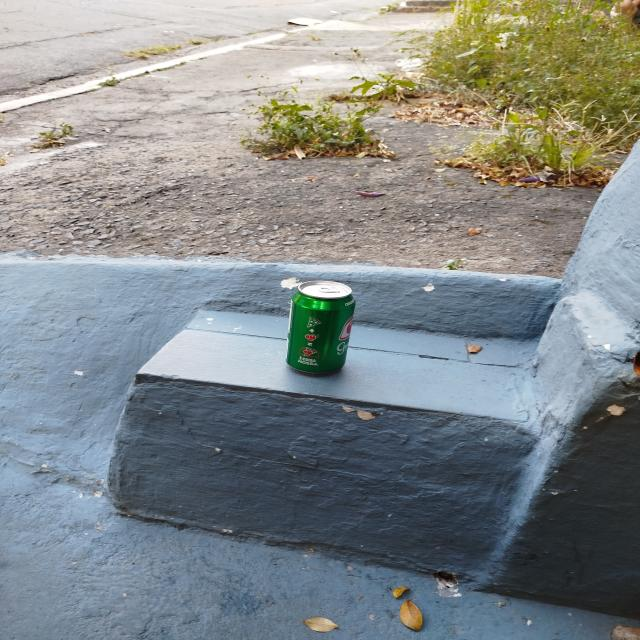Guarana: (286, 281, 358, 373)
